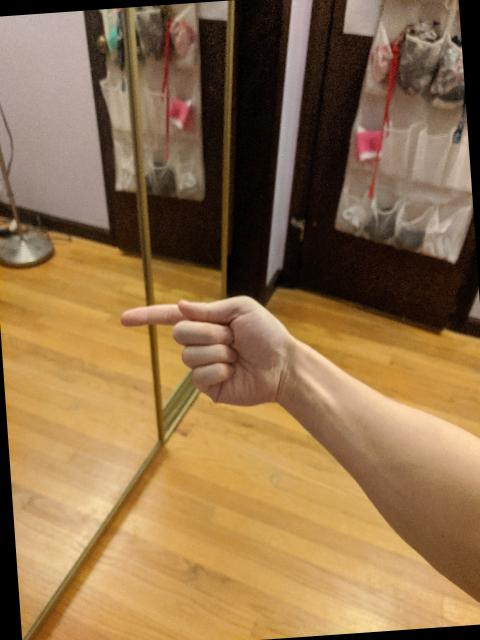G: (114, 288, 293, 419)
